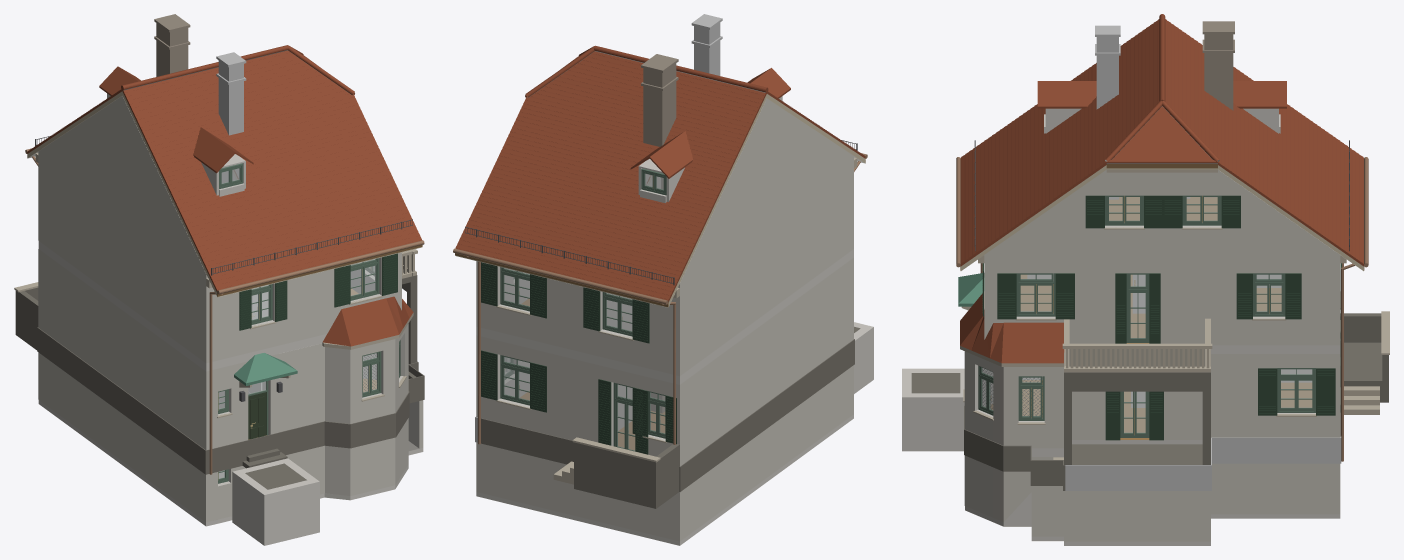
File: bestand.glb
3 views of the same model, side by side, from view 1: azimuth 30°, elevation 25°; view 2: azimuth 150°, elevation 25°; view 3: azimuth 270°, elevation 25° (orthographic). The views are drawn at different scales.
Visible parts, largest first — view 1: bestand; view 2: bestand; view 3: bestand.
Part boxes in pixels (left/top/right/bottom): bestand: left=14, top=14, right=424, bottom=545; bestand: left=453, top=14, right=873, bottom=545; bestand: left=902, top=14, right=1389, bottom=545.
Size of the model in its own units: 9.48 by 14.66 by 15.07.
